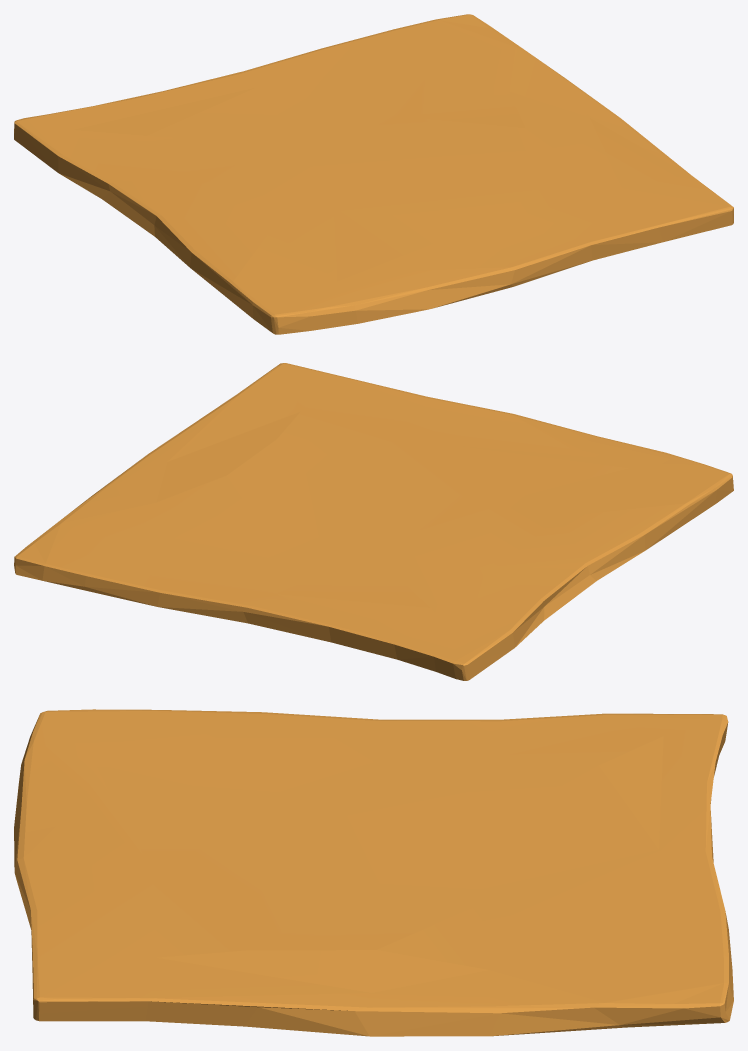
Rendered from grass.fbx.
3 views of the same model, one above another, from view 1: azimuth 30°, elevation 25°; view 2: azimuth 150°, elevation 25°; view 3: azimuth 270°, elevation 25° (orthographic). The views are drawn at different scales.
Visible parts, largest first — view 1: puente.002; view 2: puente.002; view 3: puente.002.
Boxes of the visible parts, <box> form: puente.002: <box>14,14,733,334</box>; puente.002: <box>14,363,733,680</box>; puente.002: <box>14,709,733,1036</box>.
Size of the model in its own units: 812 by 39.74 by 826.
